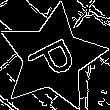P_NE: (21, 30, 83, 86)
